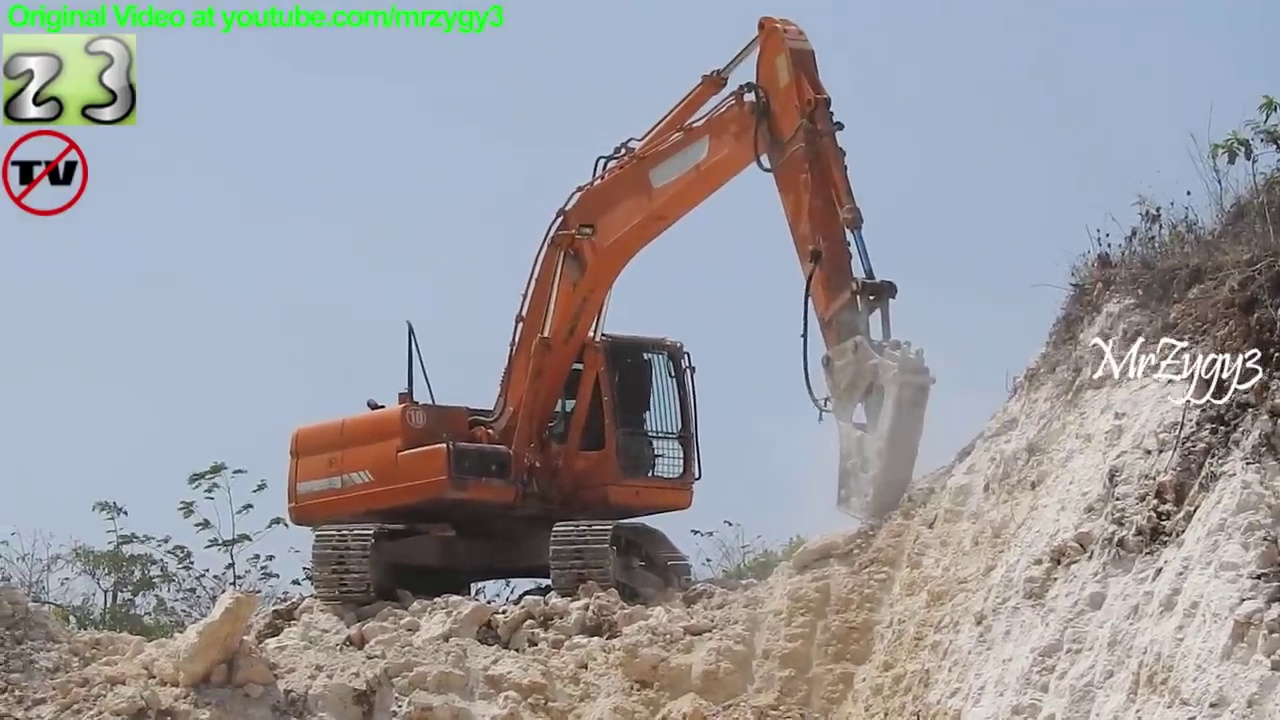excavator breaker: (278, 9, 948, 621)
